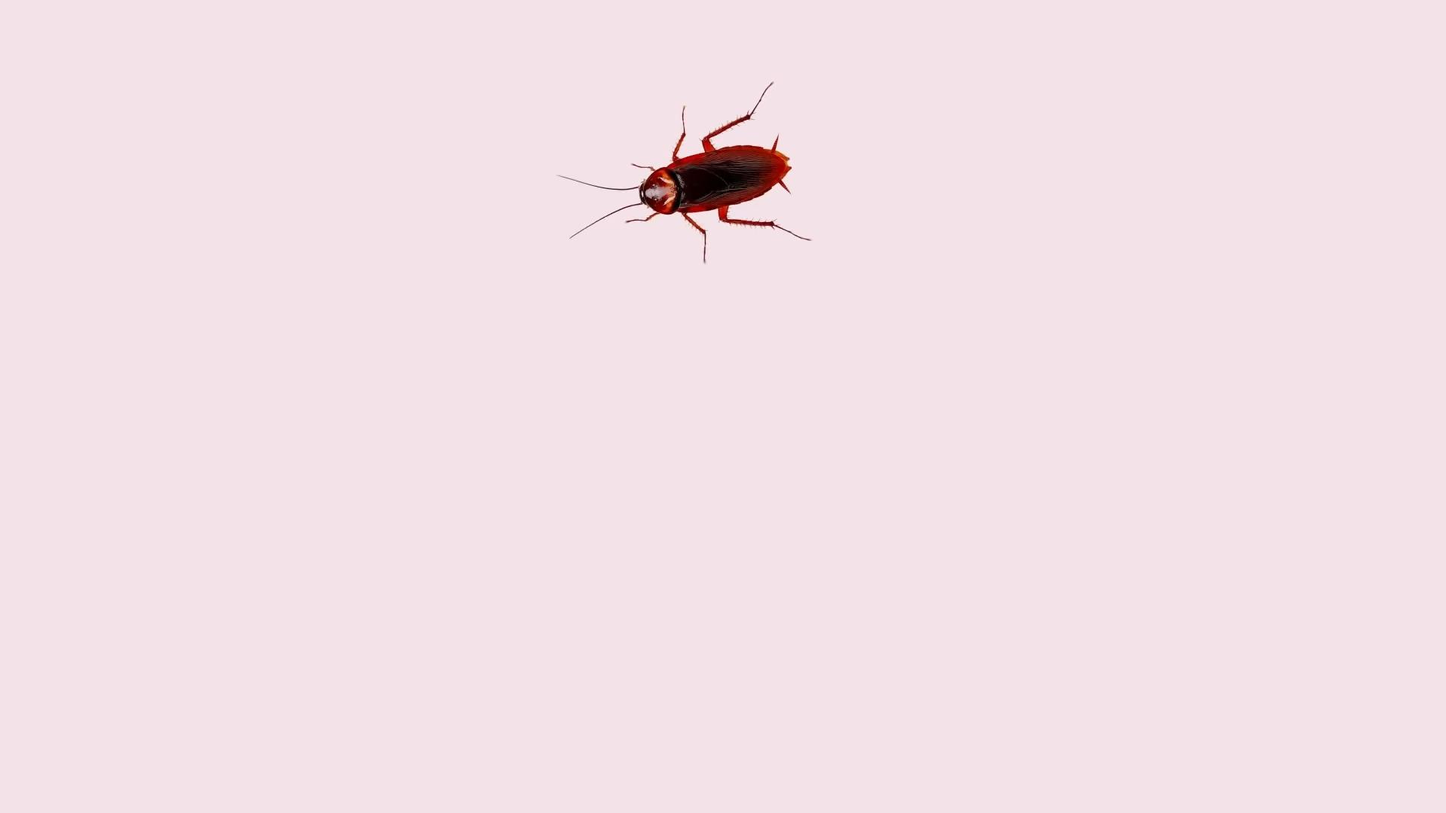cockroach: (566, 103, 792, 246)
